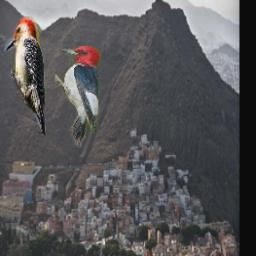Woodpecker: (52, 47, 104, 149), (3, 18, 45, 136)
